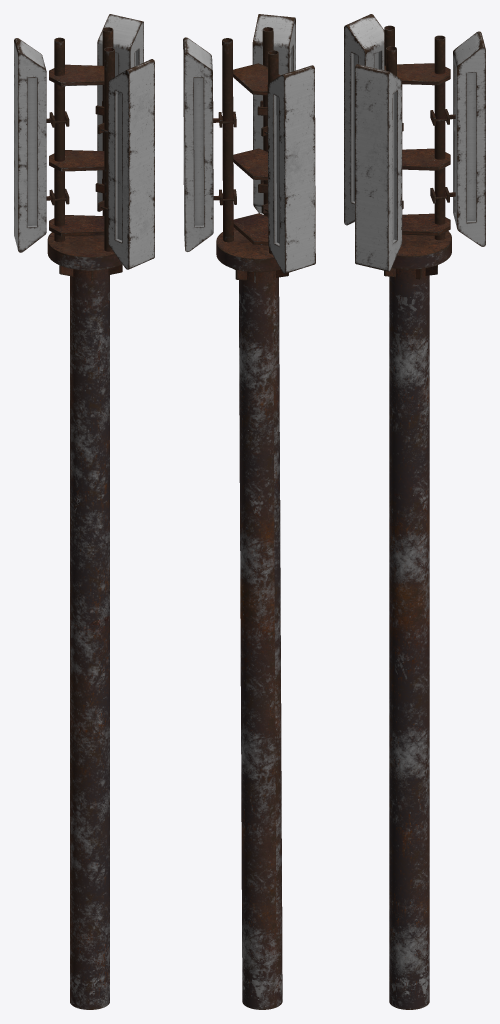
Rendered from old_tower.glb.
3 views of the same model, side by side, from view 1: azimuth 90°, elevation 25°; view 2: azimuth 210°, elevation 25°; view 3: azimuth 270°, elevation 25° (orthographic).
Parts seen in each view (by area): view 1: pCylinder1, pCube18, pCube17, pCube16, pCylinder5, pCylinder6, pCube8, pCube9, pCube10, pCylinder4; view 2: pCylinder1, pCube17, pCube16, pCube18, pCylinder4, pCube8, pCube10, pCube9, pCylinder6, pCylinder5; view 3: pCylinder1, pCube16, pCube17, pCube18, pCylinder5, pCube10, pCube9, pCube8.
Part boxes in pixels (<box>): pCylinder1: <box>47,232,121,1009</box>; pCube18: <box>108,59,154,269</box>; pCube17: <box>14,38,46,252</box>; pCube16: <box>97,14,143,203</box>; pCylinder5: <box>54,37,64,242</box>; pCylinder6: <box>104,47,114,251</box>; pCube8: <box>49,215,104,236</box>; pCube9: <box>49,150,104,171</box>; pCube10: <box>49,64,104,86</box>; pCylinder4: <box>102,27,113,215</box>; pCylinder1: <box>216,227,282,1009</box>; pCube17: <box>267,65,315,273</box>; pCube16: <box>183,37,213,251</box>; pCube18: <box>252,14,295,213</box>; pCylinder4: <box>222,38,233,242</box>; pCube8: <box>233,213,268,245</box>; pCube10: <box>233,63,280,95</box>; pCube9: <box>233,148,267,180</box>; pCylinder6: <box>262,27,273,216</box>; pCylinder5: <box>268,50,278,254</box>; pCylinder1: <box>389,231,451,1009</box>; pCube16: <box>355,64,402,271</box>; pCube17: <box>453,31,485,246</box>; pCube18: <box>344,14,384,225</box>; pCylinder5: <box>434,35,445,240</box>; pCube10: <box>384,63,450,85</box>; pCube9: <box>402,148,450,170</box>; pCube8: <box>402,213,450,235</box>.
Bounding box in the file's own units: 1.33 × 10.01 × 1.33.
1 material, 1 textured.
